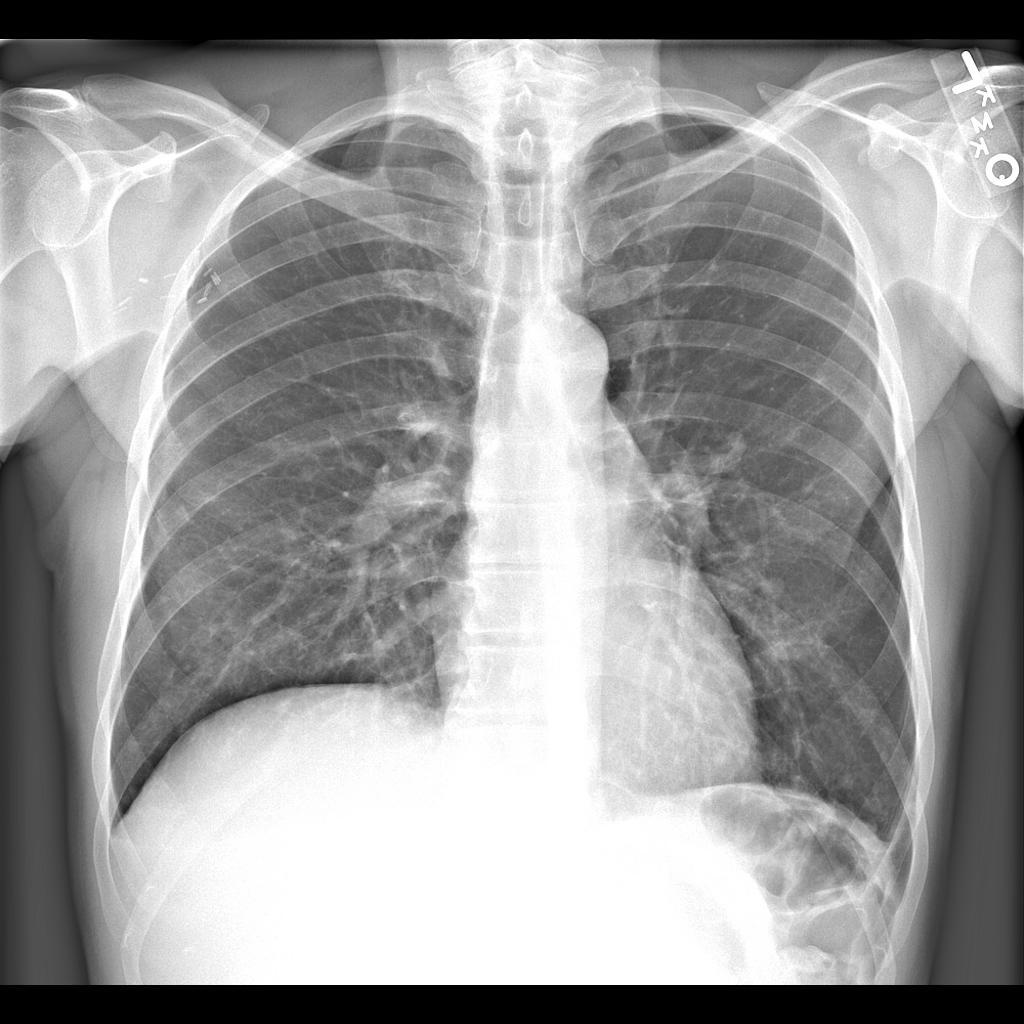Nodule: (756, 572, 792, 601), (723, 426, 749, 455)
